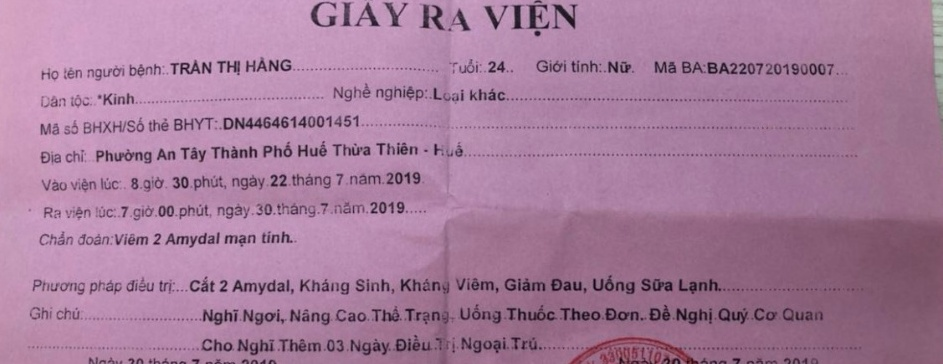add: (92, 143, 155, 166), (210, 142, 259, 164), (374, 140, 418, 161), (423, 141, 474, 159), (333, 140, 374, 162), (296, 140, 331, 164), (263, 139, 295, 164), (180, 144, 211, 166), (154, 144, 180, 164)
birth: (484, 54, 514, 79)
come_time: (383, 167, 426, 188), (292, 169, 333, 190), (192, 172, 232, 193), (232, 172, 266, 193), (349, 170, 382, 189), (143, 176, 170, 196), (268, 171, 290, 192), (173, 173, 192, 194), (120, 176, 142, 194), (329, 171, 348, 190)
diagnostic: (166, 229, 223, 248), (259, 227, 302, 249), (113, 228, 152, 249), (222, 229, 259, 247), (152, 231, 165, 249)
id: (220, 111, 379, 131)
job: (471, 80, 514, 105), (429, 83, 467, 106)
name: (169, 55, 216, 83), (248, 56, 295, 80), (213, 52, 244, 83)
nation: (101, 92, 150, 112)
note: (196, 326, 234, 358), (779, 302, 827, 327), (280, 331, 324, 358), (462, 331, 508, 356), (235, 332, 280, 357), (403, 304, 453, 326), (508, 304, 560, 325), (239, 304, 286, 327), (350, 336, 393, 361), (459, 301, 503, 325), (289, 305, 334, 328), (674, 302, 717, 326), (396, 331, 432, 359), (511, 330, 550, 355), (560, 302, 601, 325), (200, 305, 240, 327), (335, 304, 371, 327), (720, 302, 751, 328), (605, 304, 644, 324), (372, 303, 403, 327), (751, 302, 779, 325), (645, 303, 674, 324), (435, 332, 459, 356), (326, 334, 349, 357)
out_time: (372, 196, 419, 221), (217, 198, 256, 221), (277, 198, 317, 220), (177, 201, 214, 224), (335, 198, 368, 220), (256, 198, 275, 222), (156, 203, 177, 224), (318, 199, 333, 222), (135, 205, 156, 221), (117, 201, 131, 222)
sex: (605, 51, 641, 80)
solution: (231, 274, 296, 297), (676, 271, 724, 298), (589, 273, 637, 299), (299, 275, 353, 298), (400, 275, 456, 297), (503, 273, 550, 296), (354, 276, 399, 298), (638, 274, 675, 300), (457, 274, 499, 296), (550, 274, 589, 297), (186, 271, 216, 297), (217, 272, 231, 295)
